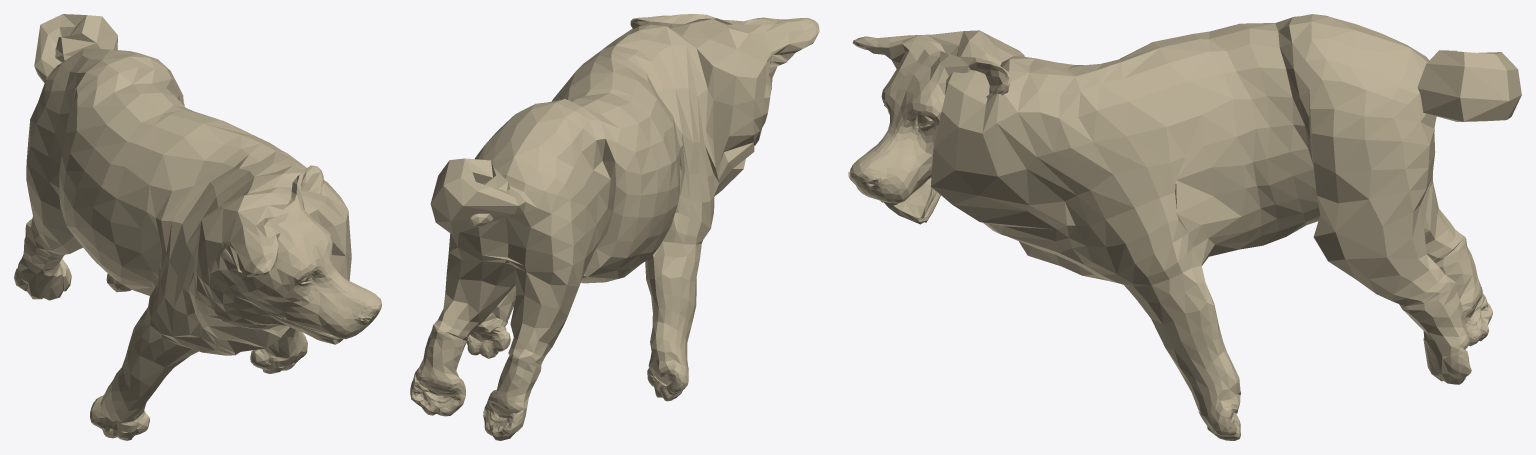
3 renders of one model, left to right at view 1: azimuth 30°, elevation 25°; view 2: azimuth 150°, elevation 25°; view 3: azimuth 270°, elevation 25°, orthographic. The views are drawn at different scales.
Parts seen in each view (by area): view 1: world; view 2: world; view 3: world.
Part boxes in pixels (x1,y1,x2,y2): world: (14,14,381,440); world: (410,14,819,440); world: (848,14,1521,440).
Bounding box in the file's own units: 0.4912 × 0.688 × 1.13.
